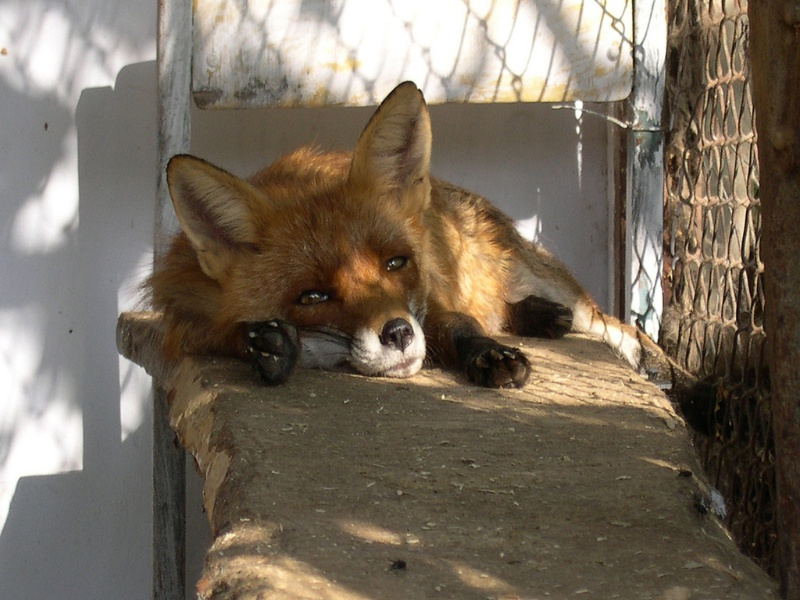fox: (134, 74, 697, 395)
